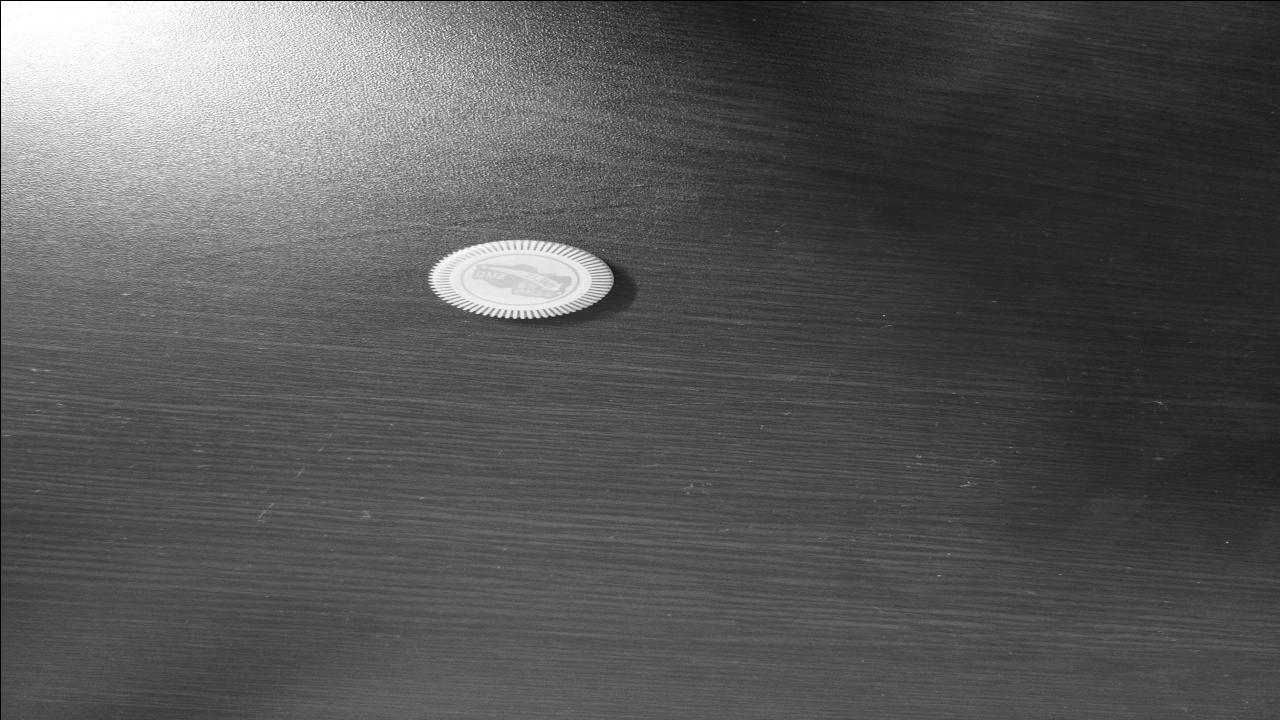bottle_cap: (433, 241, 610, 318)
